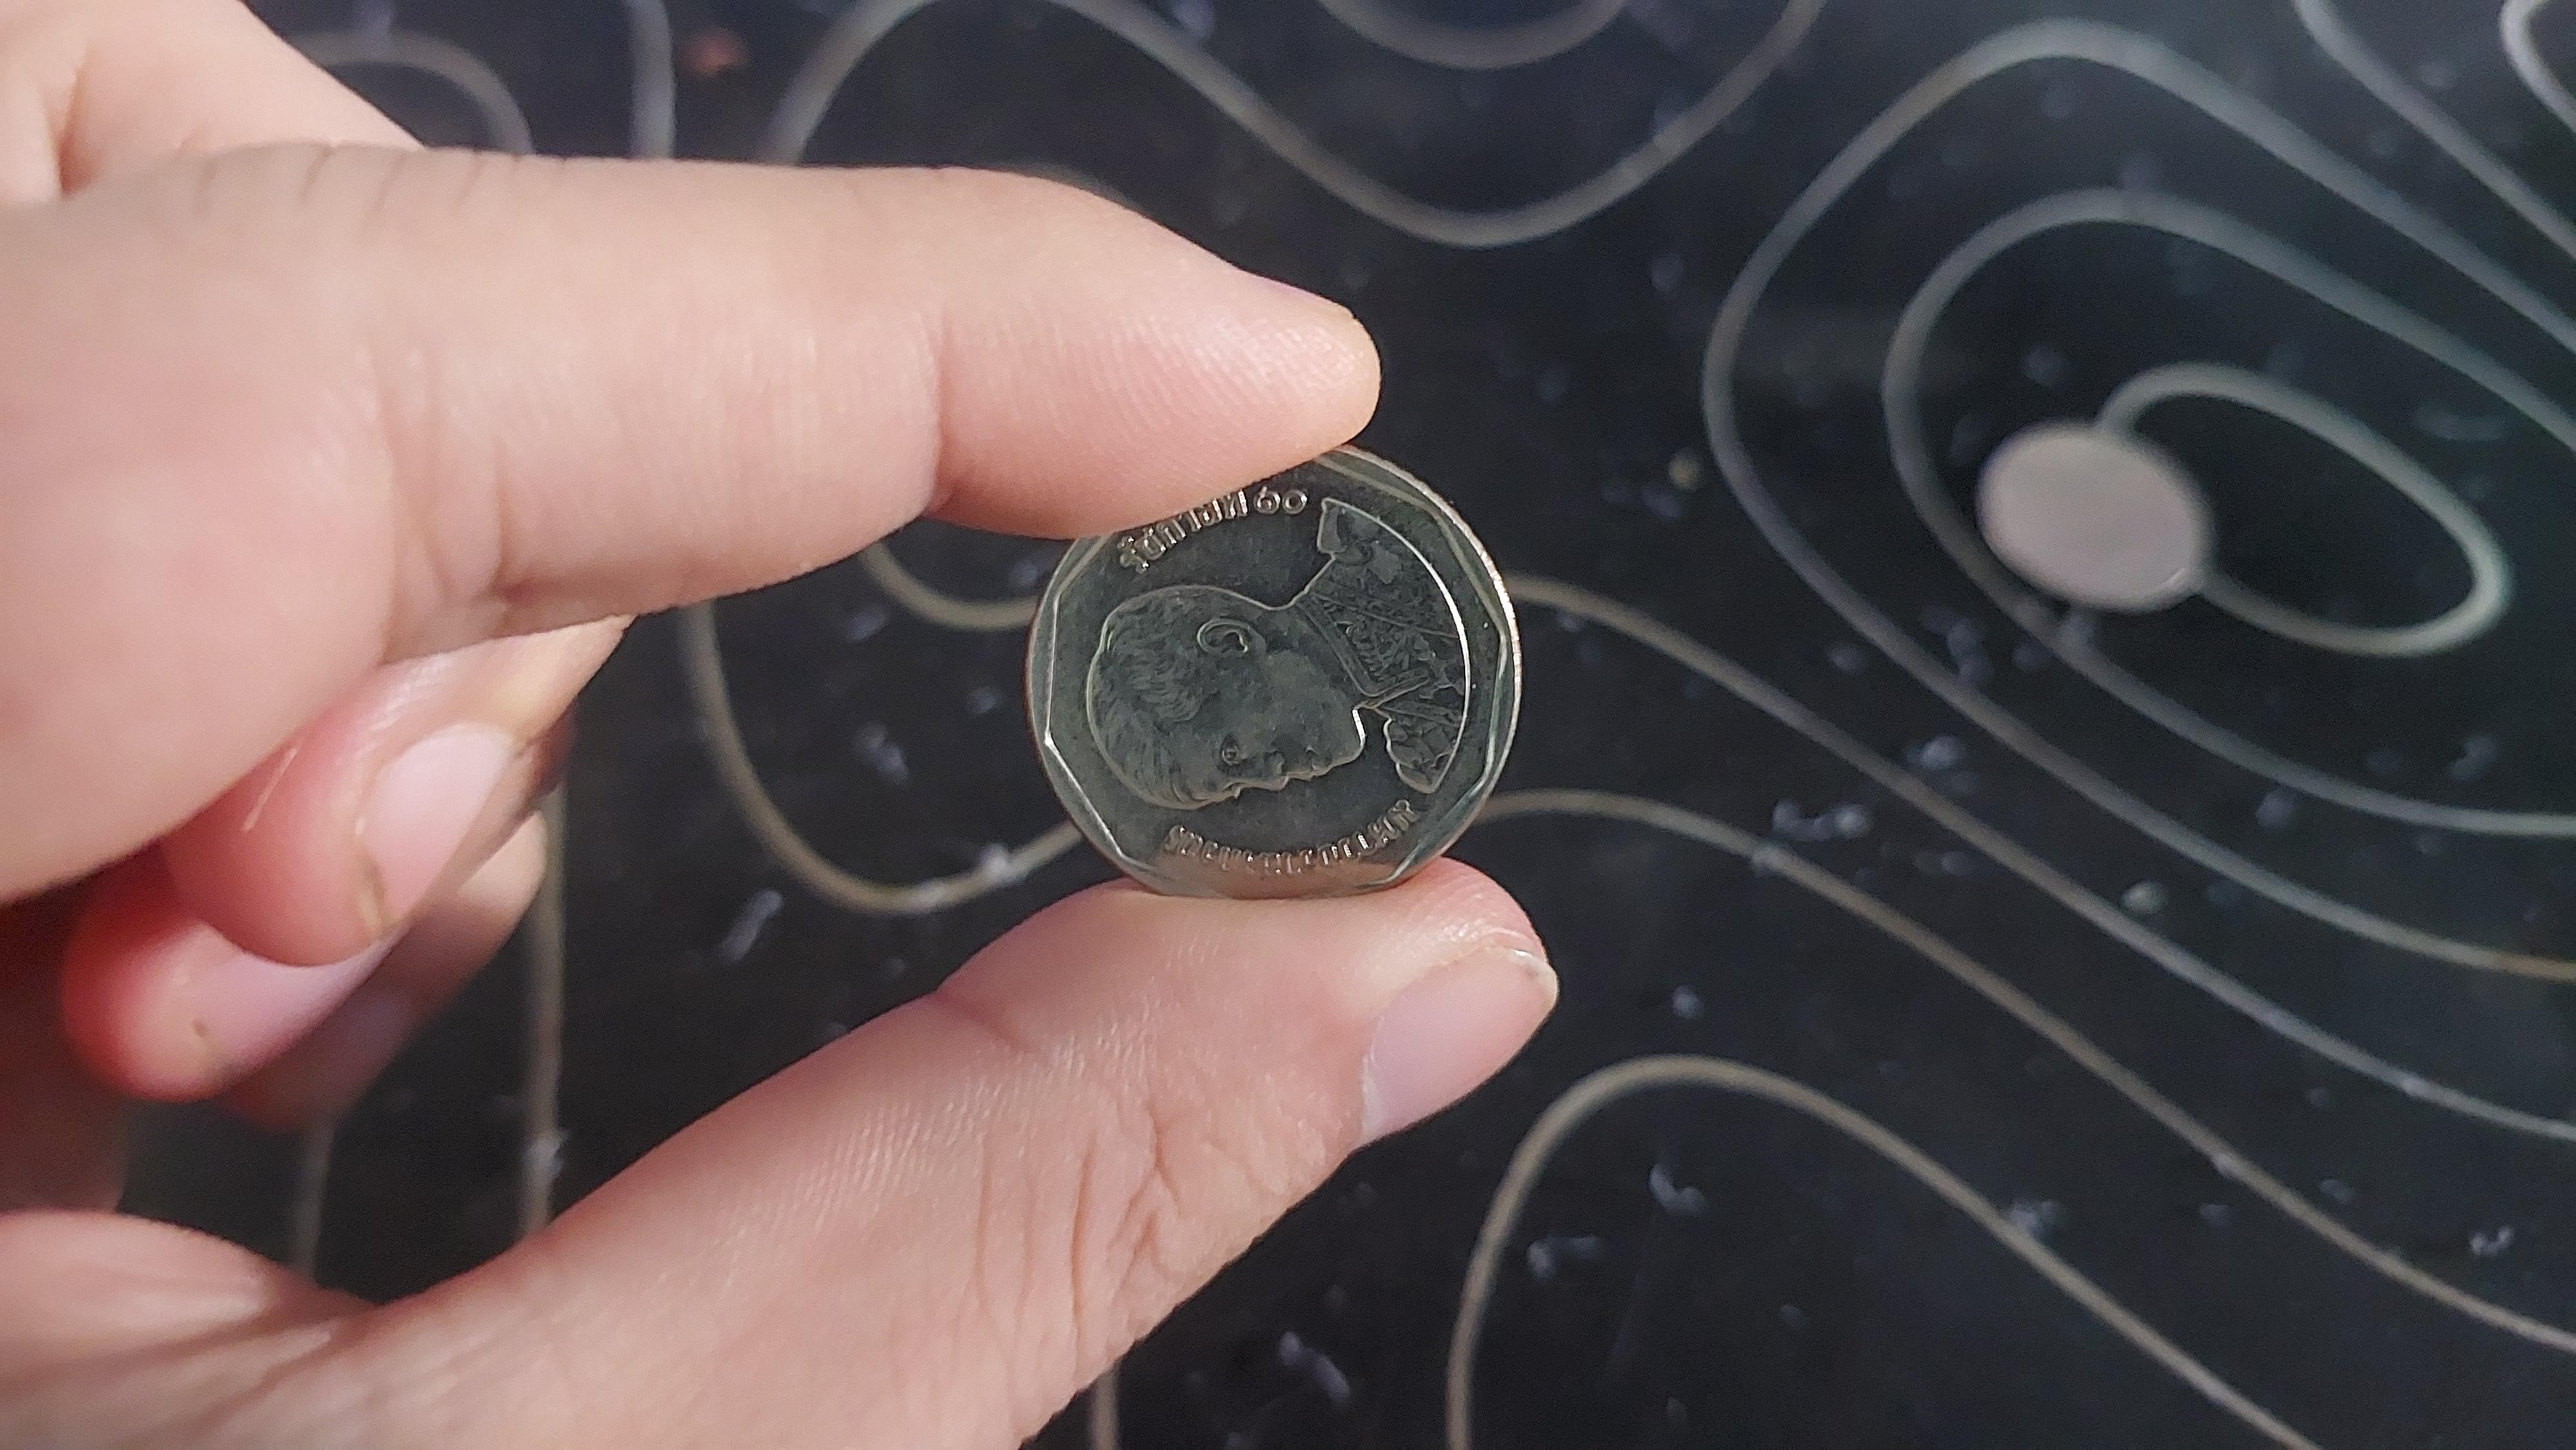5baht: (960, 333, 1618, 983)
